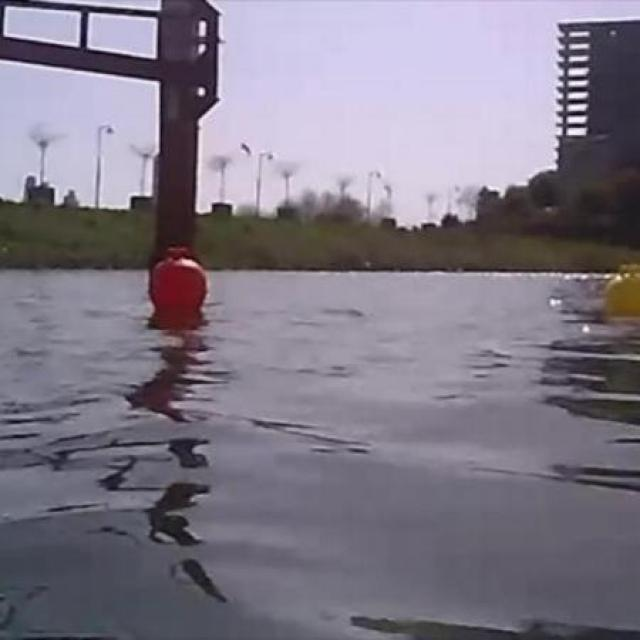buoy: (151, 250, 207, 309), (607, 265, 639, 308)
